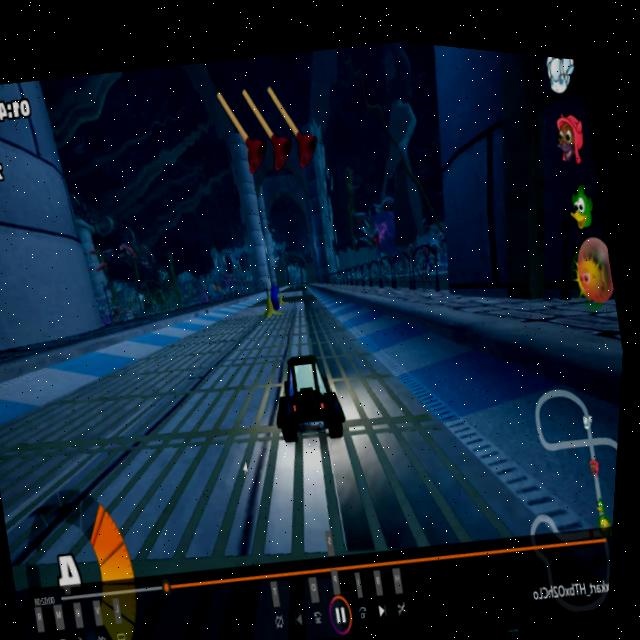obstacle: (260, 282, 288, 321)
player_kart: (265, 330, 363, 451)
track: (284, 266, 313, 290)
